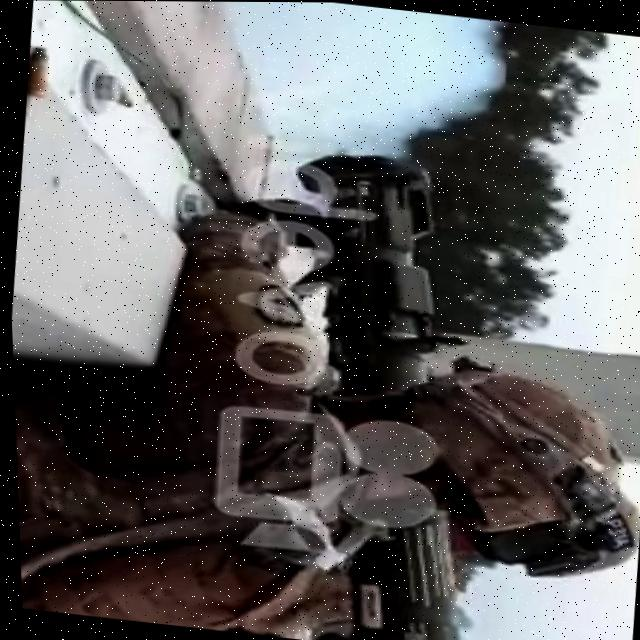rocket: (239, 143, 508, 640)
